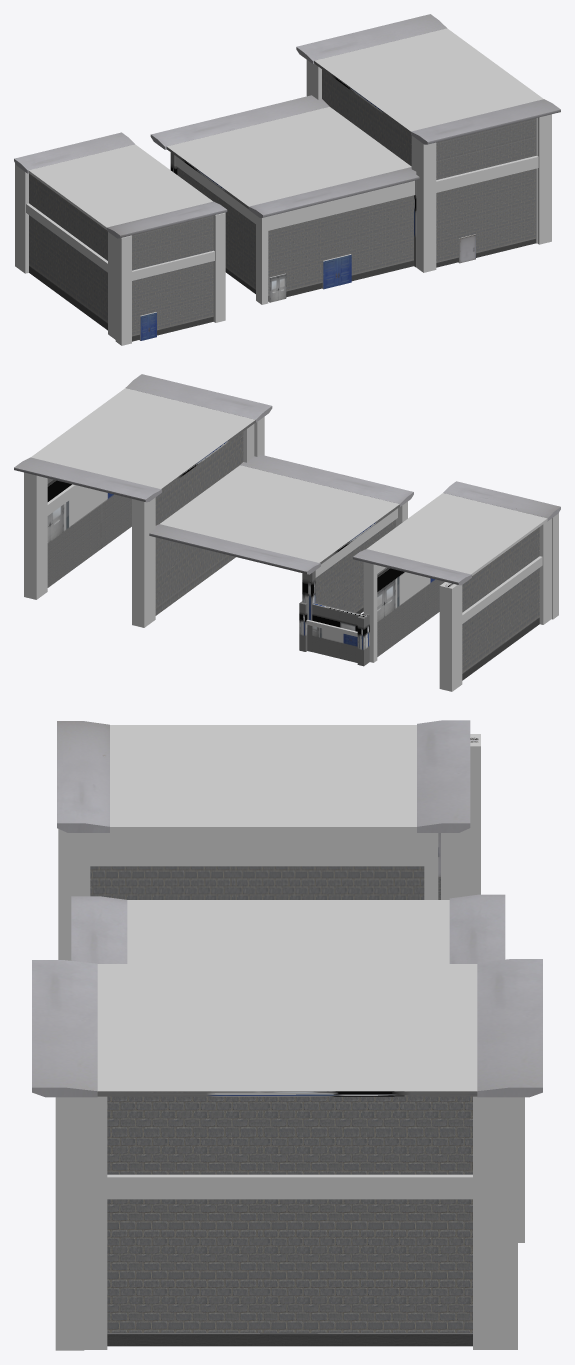
The model's file is building_facade_1.FBX.
3 renders of one model, top to bottom at view 1: azimuth 30°, elevation 25°; view 2: azimuth 150°, elevation 25°; view 3: azimuth 270°, elevation 25°, orthographic. The views are drawn at different scales.
Parts seen in each view (by area): view 1: building facade; view 2: building facade; view 3: building facade.
Part boxes in pixels (x1,y1,x2,y2): building facade: (14,14,560,345); building facade: (14,374,560,691); building facade: (32,720,542,1350).
Bounding box in the file's own units: 3426 × 1029 × 1779.
1 material, 1 textured.
